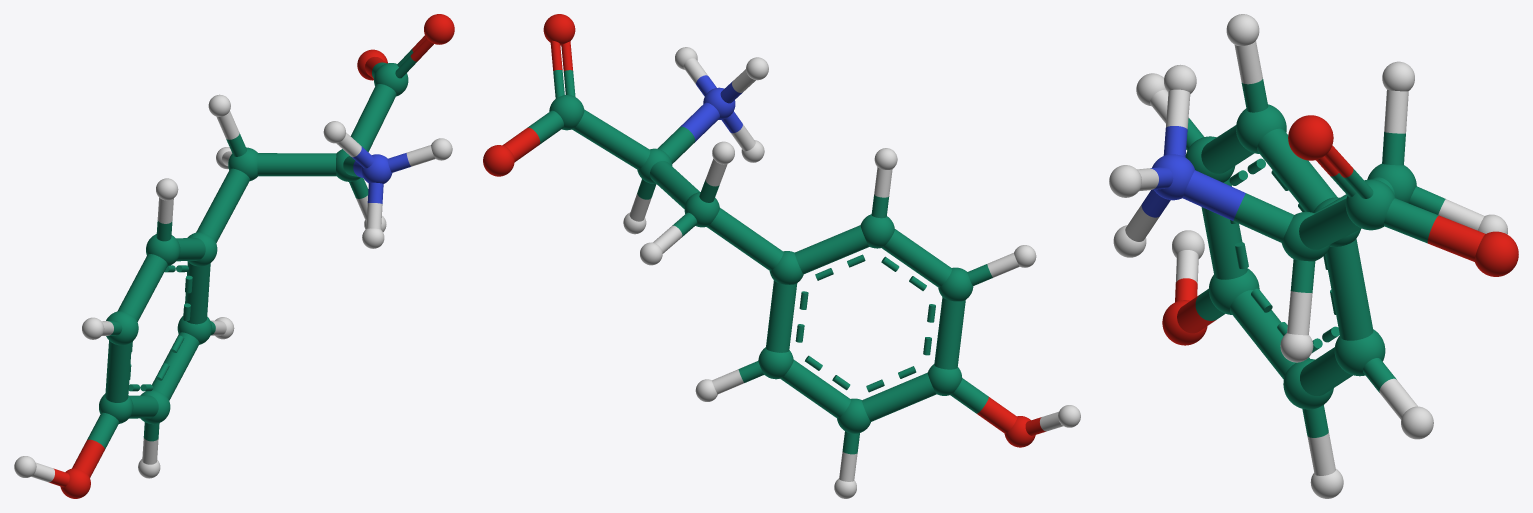
Rendered from TYR.PDB.glb.
3 renders of one model, left to right at view 1: azimuth 30°, elevation 25°; view 2: azimuth 150°, elevation 25°; view 3: azimuth 270°, elevation 25°, orthographic. The views are drawn at different scales.
Size of the model in its own units: 8.16 by 6.46 by 4.1.
